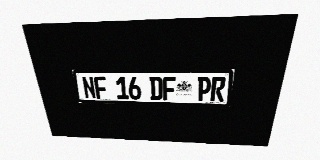1: (115, 76, 129, 100)
6: (128, 76, 141, 100)
D: (149, 76, 163, 100)
F: (93, 76, 108, 99), (163, 77, 176, 100)
N: (81, 76, 96, 99)
P: (197, 77, 212, 101)
R: (210, 77, 226, 101)
